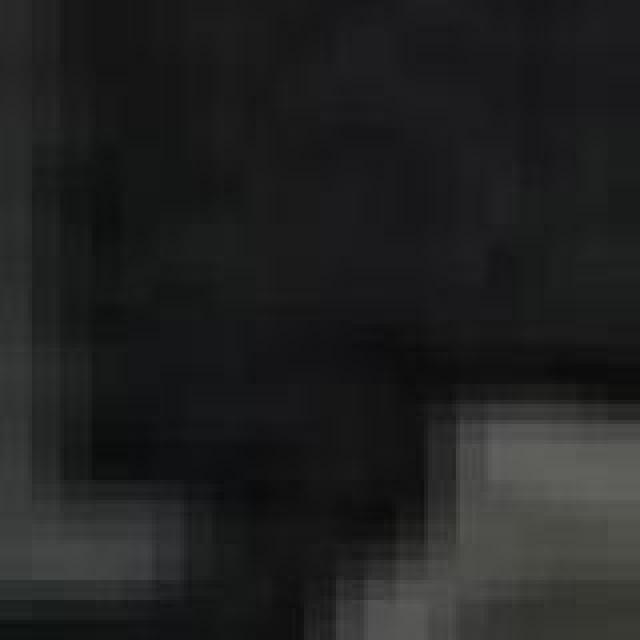diode: (96, 0, 640, 624)
